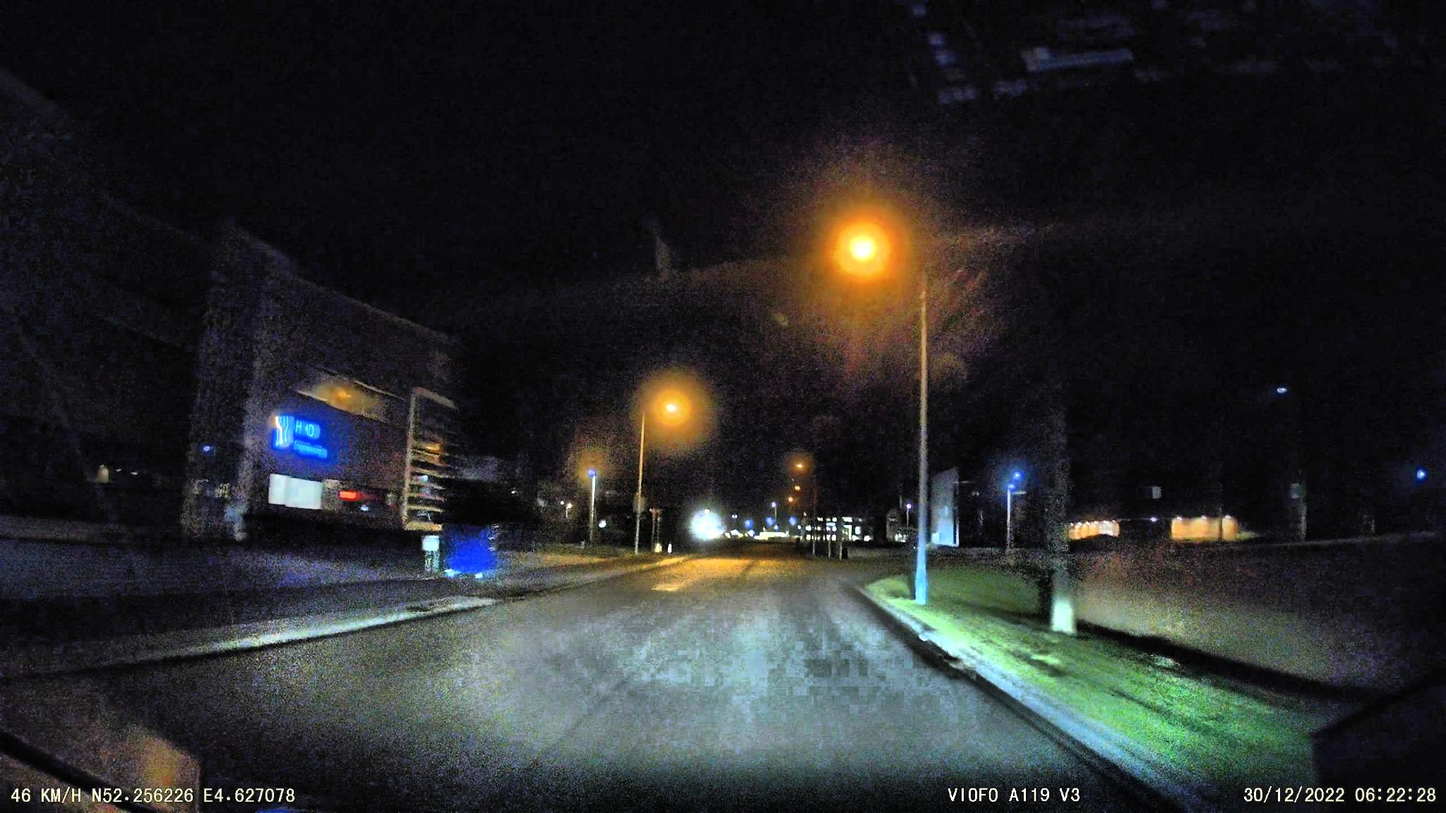Roads: (0, 557, 1145, 813)
